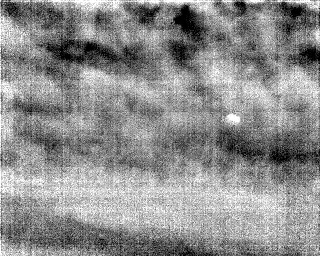BIRD: (246, 64, 256, 75)
